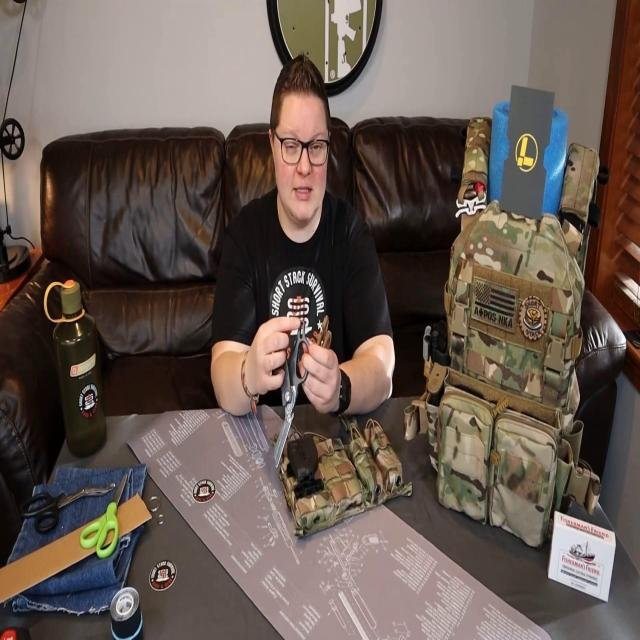scissor: (272, 318, 310, 468), (19, 481, 116, 536), (80, 472, 128, 559)
